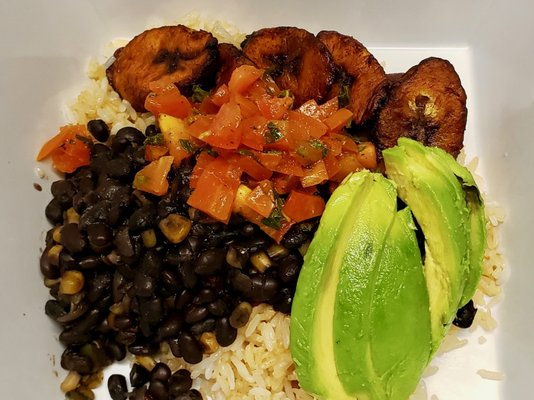pizza: (36, 124, 92, 174)
